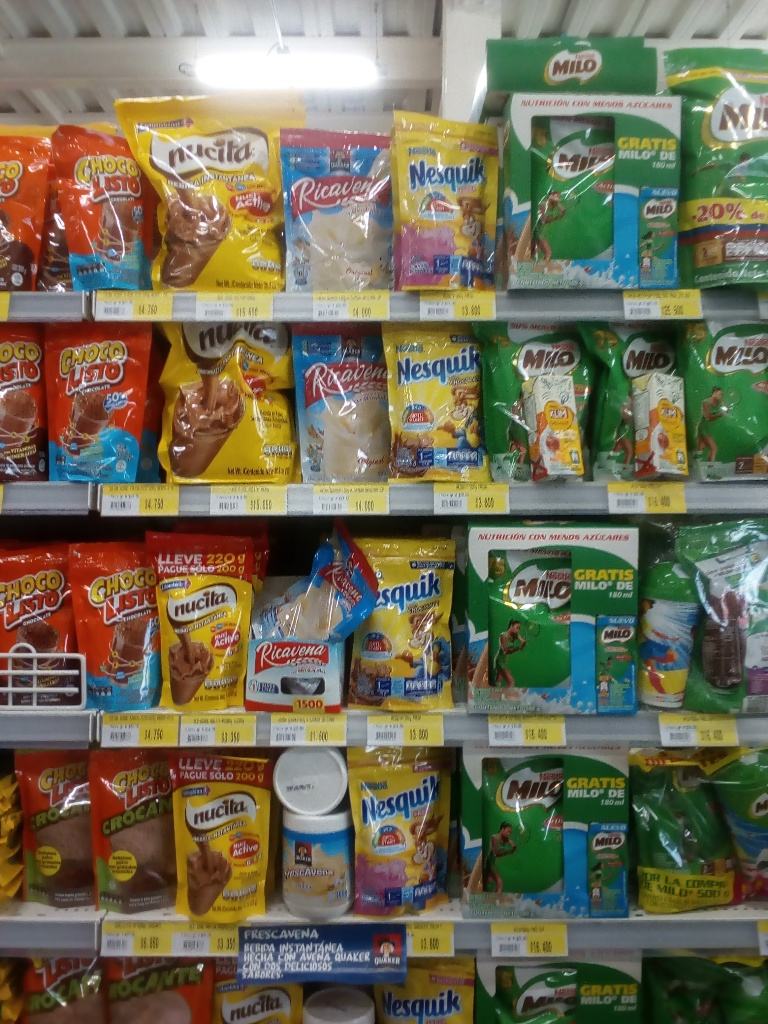COL0170102DYP25000: (7, 740, 91, 912)
COL0170104DYP20000: (64, 528, 162, 715)
COL0170203DYP50000: (515, 99, 627, 275)
COL0170205DYP50000: (685, 325, 768, 478)
COL0170303DYP20000: (377, 318, 485, 486)
COL0170305DYP20000: (341, 740, 459, 919)
